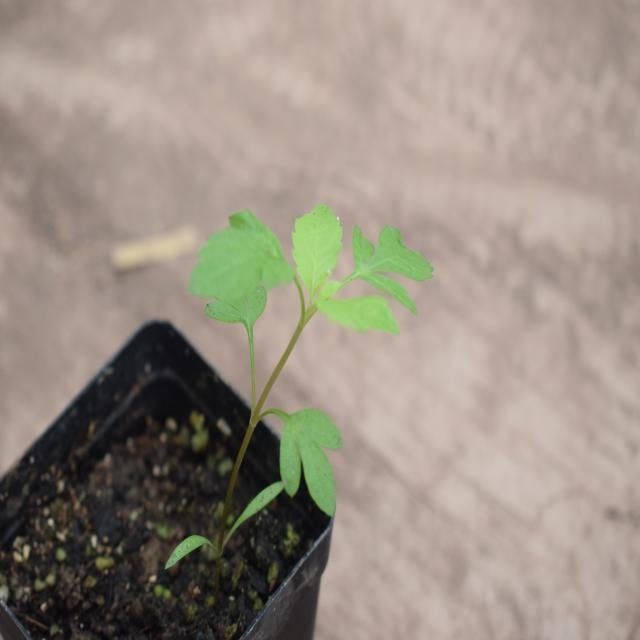Bidens pilosa: (189, 194, 446, 515)
